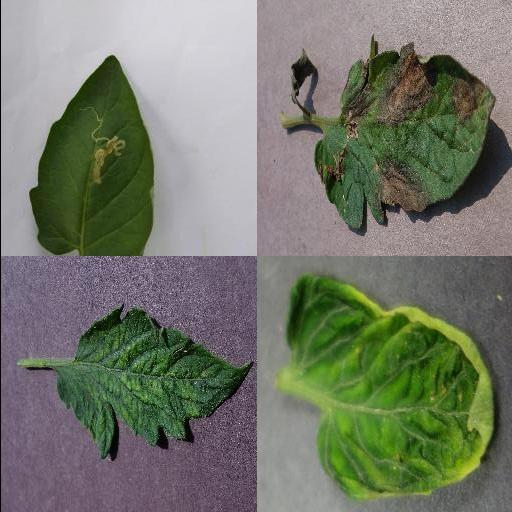Late Blight: (313, 35, 497, 231)
Leaf Miner: (26, 55, 154, 256)
Mosaic Virus: (53, 303, 251, 461)
Yellow Leaf Curl Virus: (284, 272, 494, 500)
